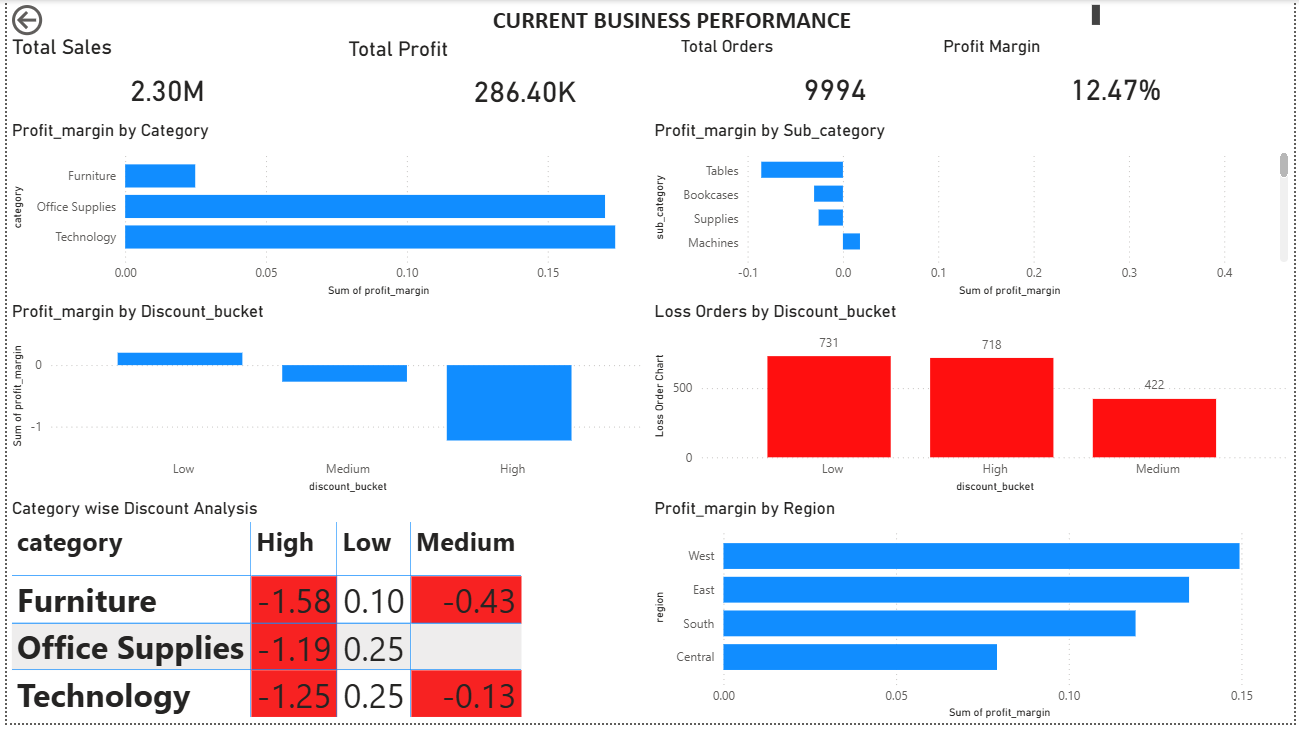

The page's visual inventory and layout, read from the dashboard file:
{"tool":"powerbi","page":{"name":"Current","canvas":[1280,720],"ordinal":0},"visuals":[{"type":"textbox","box":[238.8,0,853.5,34.3],"z":0},{"type":"card","title":"Total Sales","fields":{"Values":["Sum(overall_summary.total_sales)"]},"box":[0,34.8,319.7,84.6],"z":1000},{"type":"card","title":"Total Profit","fields":{"Values":["Sum(overall_summary.total_profit)"]},"box":[334.6,36.1,362,83.3],"z":2000},{"type":"card","title":"Total Orders","fields":{"Values":["Sum(overall_summary.total_orders)"]},"box":[665.5,36.1,317.2,83.3],"z":3000},{"type":"card","title":"Profit Margin","fields":{"Values":["Sum(overall_summary.profit_margin)"]},"box":[926.7,36.1,353.3,83.3],"z":4000},{"type":"clusteredBarChart","title":"Profit_margin by Category","fields":{"Category":["category_analysis.category"],"Y":["Sum(category_analysis.profit_margin)"]},"box":[0,119.4,639.4,180.4],"z":5000},{"type":"clusteredBarChart","title":"Profit_margin by Sub_category","fields":{"Category":["subcategory_analysis.sub_category"],"Y":["Sum(subcategory_analysis.profit_margin)"]},"box":[639.4,119.4,640.6,180.4],"z":6000},{"type":"clusteredColumnChart","title":"Profit_margin by Discount_bucket","fields":{"Category":["discount_analysis.discount_bucket"],"Y":["Sum(discount_analysis.profit_margin)"]},"box":[0,299.8,639.4,195.3],"z":7000},{"type":"clusteredColumnChart","title":"Loss Orders by Discount_bucket","fields":{"Category":["discount_analysis.discount_bucket"],"Y":["discount_analysis.Loss Order Chart"]},"box":[639.4,299.8,640.6,195.3],"z":8000},{"type":"pivotTable","title":"Category wise Discount Analysis","fields":{"Rows":["category_discount_analysis.category"],"Columns":["category_discount_analysis.discount_bucket"],"Values":["Sum(category_discount_analysis.profit_margin)"]},"box":[0,495.1,639.4,225.2],"z":9000},{"type":"clusteredBarChart","title":"Profit_margin by Region","fields":{"Category":["region_analysis.region"],"Y":["Sum(region_analysis.profit_margin)"]},"box":[639.4,495.1,640.6,225.2],"z":10000},{"type":"actionButton","box":[0,0,100,40],"z":11000}]}

Visuals, with their boxes in screenshot pixels (x1, y1, x2, y2), scaled from the page's 1280x720 canvas onto the 1299x729 screenshot:
textbox: pyautogui.locateOnScreen(242, 0, 1109, 35)
"Total Sales" card: pyautogui.locateOnScreen(0, 35, 324, 121)
"Total Profit" card: pyautogui.locateOnScreen(340, 37, 707, 121)
"Total Orders" card: pyautogui.locateOnScreen(675, 37, 997, 121)
"Profit Margin" card: pyautogui.locateOnScreen(940, 37, 1298, 121)
"Profit_margin by Category" clusteredBarChart: pyautogui.locateOnScreen(0, 121, 649, 304)
"Profit_margin by Sub_category" clusteredBarChart: pyautogui.locateOnScreen(649, 121, 1298, 304)
"Profit_margin by Discount_bucket" clusteredColumnChart: pyautogui.locateOnScreen(0, 304, 649, 501)
"Loss Orders by Discount_bucket" clusteredColumnChart: pyautogui.locateOnScreen(649, 304, 1298, 501)
"Category wise Discount Analysis" pivotTable: pyautogui.locateOnScreen(0, 501, 649, 728)
"Profit_margin by Region" clusteredBarChart: pyautogui.locateOnScreen(649, 501, 1298, 728)
actionButton: pyautogui.locateOnScreen(0, 0, 101, 40)
